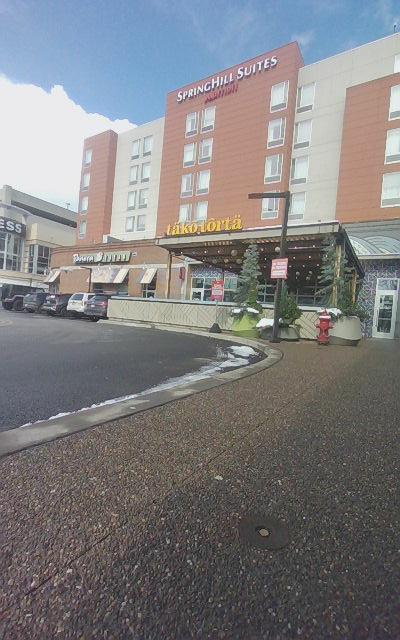curb: (0, 339, 399, 639)
road: (0, 311, 260, 431)
